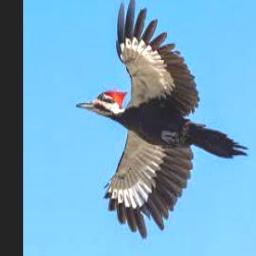Woodpecker: (75, 0, 249, 239)
